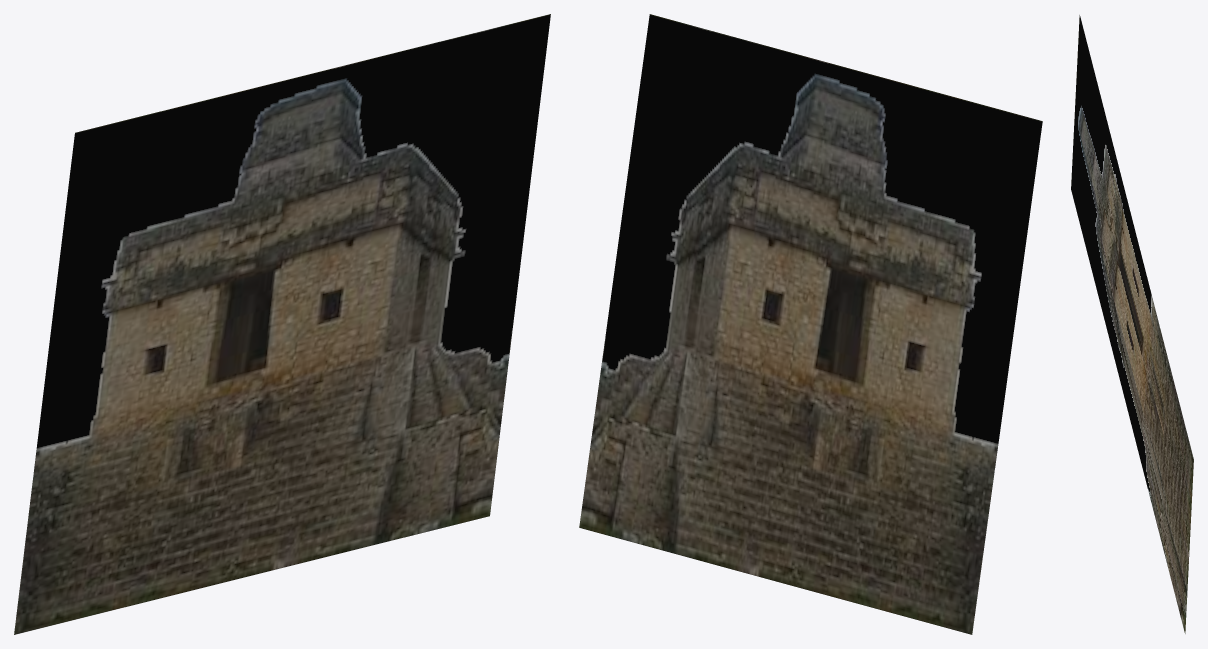
The model's file is Dzibilchaltun.glb.
The picture shows the model from 3 angles, left to right: view 1: azimuth 30°, elevation 25°; view 2: azimuth 150°, elevation 25°; view 3: azimuth 270°, elevation 25°; orthographic projection. The views are drawn at different scales.
Parts seen in each view (by area): view 1: Mesh_0.002; view 2: Mesh_0.002; view 3: Mesh_0.002.
Part boxes in pixels (x1,y1,x2,y2): Mesh_0.002: [14, 14, 550, 634]; Mesh_0.002: [579, 14, 1042, 634]; Mesh_0.002: [1071, 15, 1193, 633].
Size of the model in its own units: 17.6 by 19.75 by 4.92.
1 material, 1 textured.
